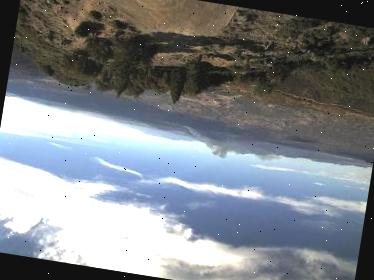smoke: (175, 119, 282, 170)
